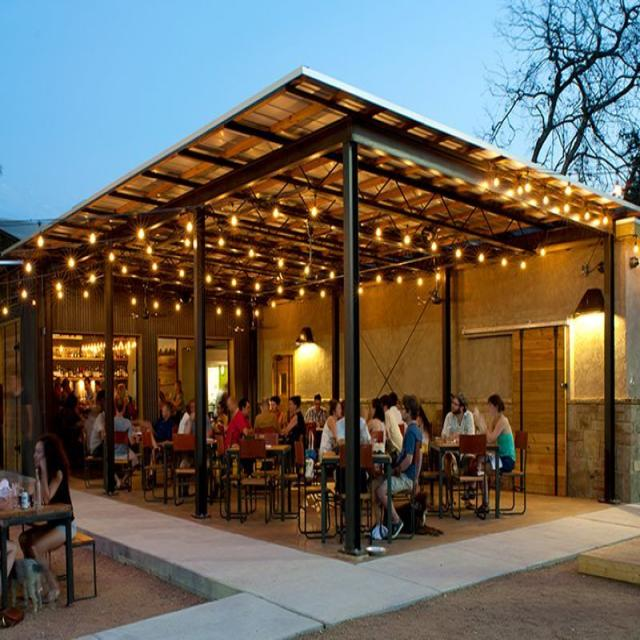person: (24, 435, 91, 614), (394, 402, 429, 539), (480, 389, 531, 482), (143, 390, 183, 473), (364, 384, 410, 454), (112, 391, 141, 478), (316, 392, 349, 467), (228, 397, 267, 458), (446, 384, 484, 444), (255, 382, 285, 436), (283, 396, 309, 447)
